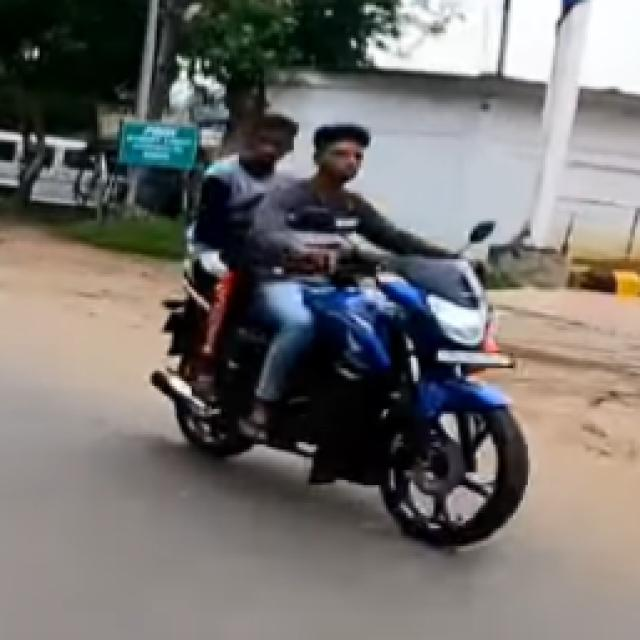normal: (172, 100, 533, 512)
